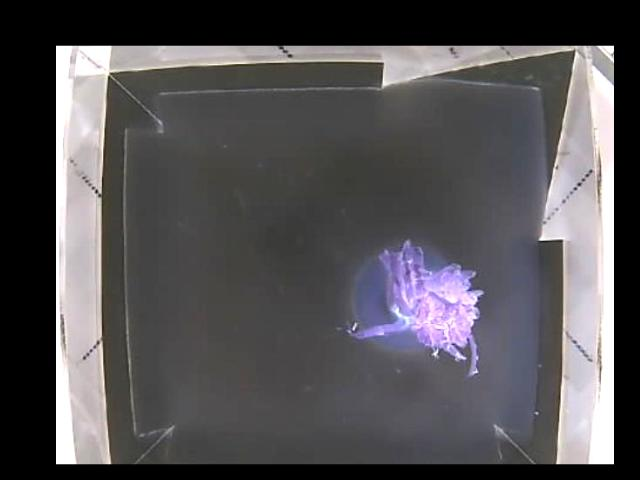Mooli: (348, 237, 482, 357)
